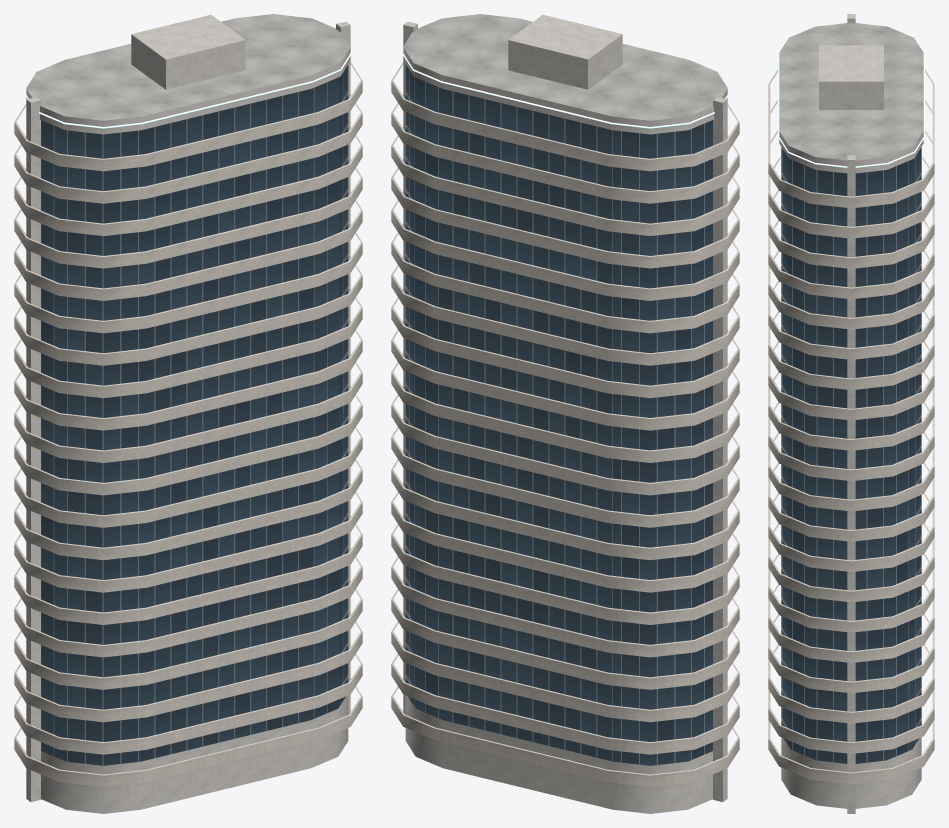
Rendered from tower_1.gltf.
3 views of the same model, side by side, from view 1: azimuth 30°, elevation 25°; view 2: azimuth 150°, elevation 25°; view 3: azimuth 270°, elevation 25° (orthographic). The views are drawn at different scales.
Parts seen in each view (by area): view 1: tower_1_mesh; view 2: tower_1_mesh; view 3: tower_1_mesh.
Part boxes in pixels (x1=…): tower_1_mesh: x1=14, y1=14, x2=362, y2=813; tower_1_mesh: x1=391, y1=14, x2=739, y2=813; tower_1_mesh: x1=768, y1=14, x2=934, y2=813.
Bounding box in the file's own units: 32.48 × 69.3 × 15.4.
Materials: 5 (4 with a texture image).
